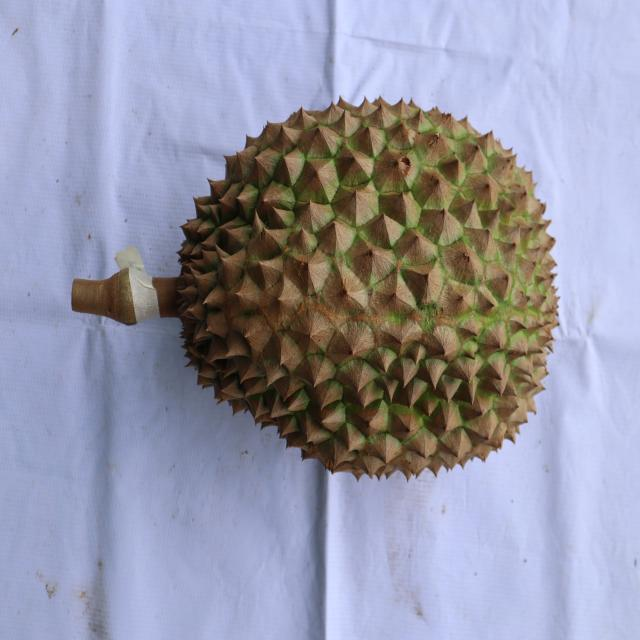mature: (179, 95, 562, 483)
